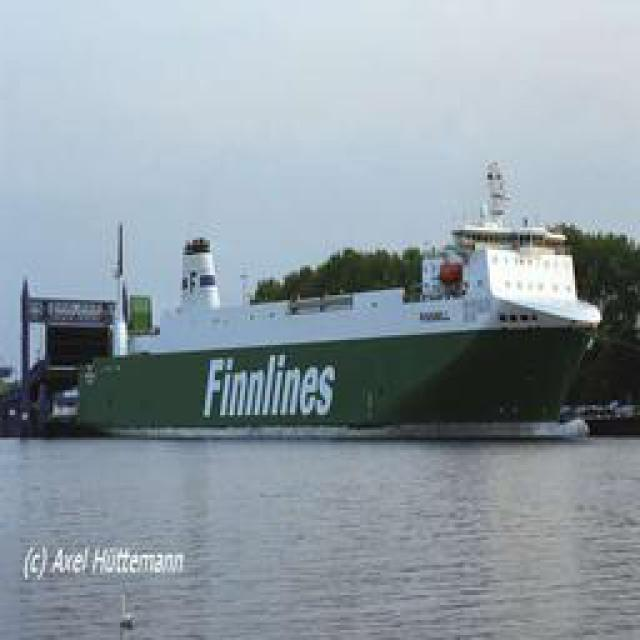Ship: (60, 160, 605, 440)
